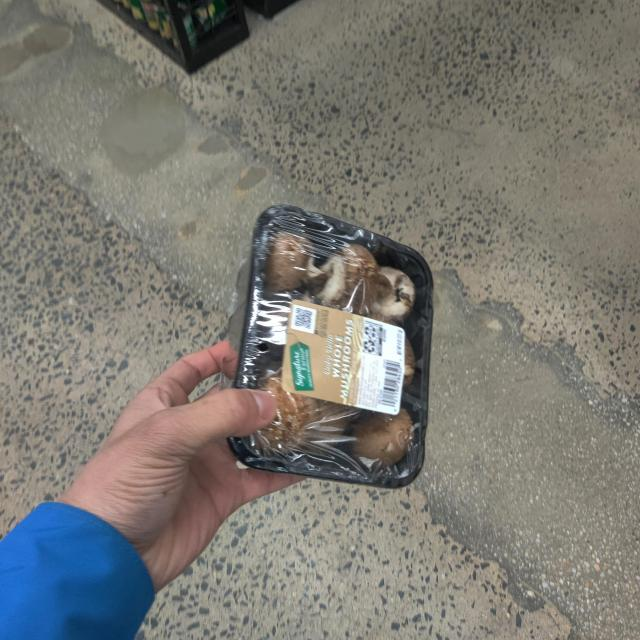Mushrooms: (227, 205, 434, 485)
